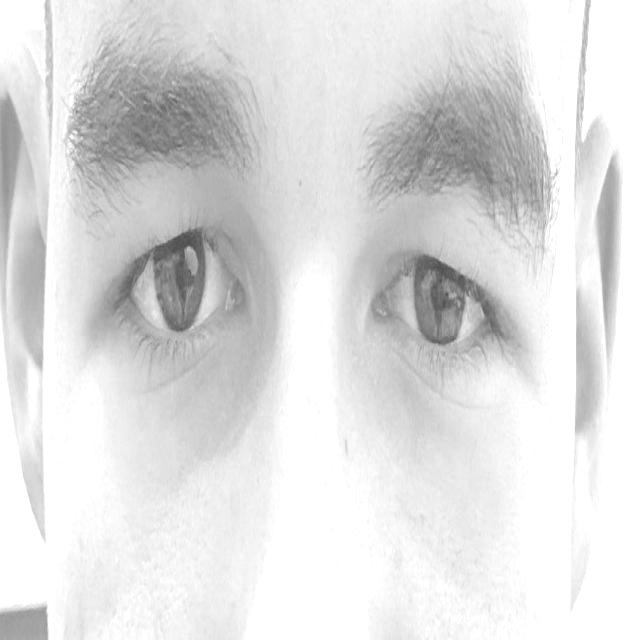real: (72, 70, 554, 476)
